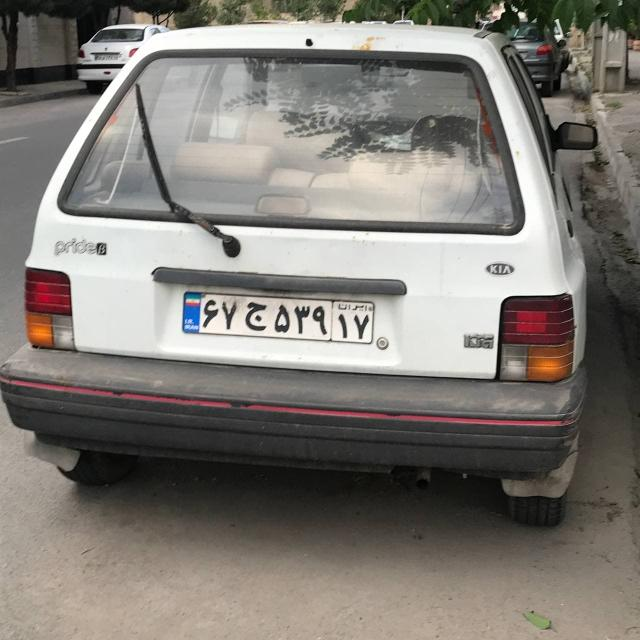Plates: (182, 291, 374, 343)
